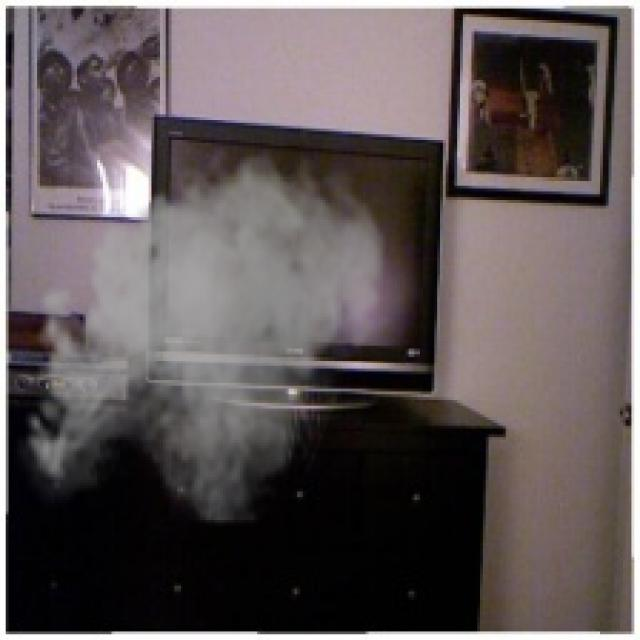smoke: (14, 140, 394, 526)
